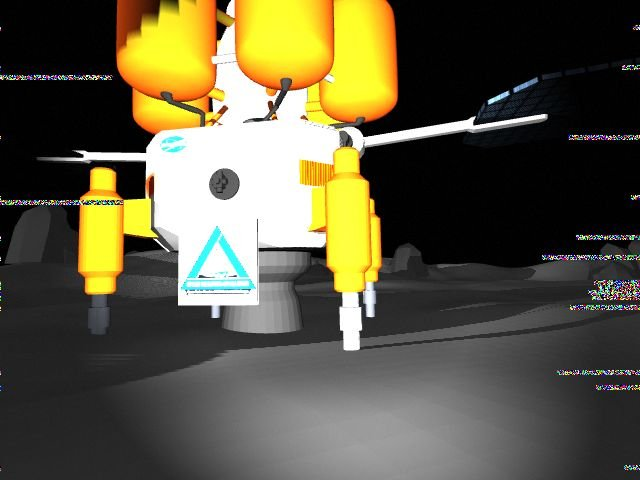basemarker: (179, 225, 257, 296)
